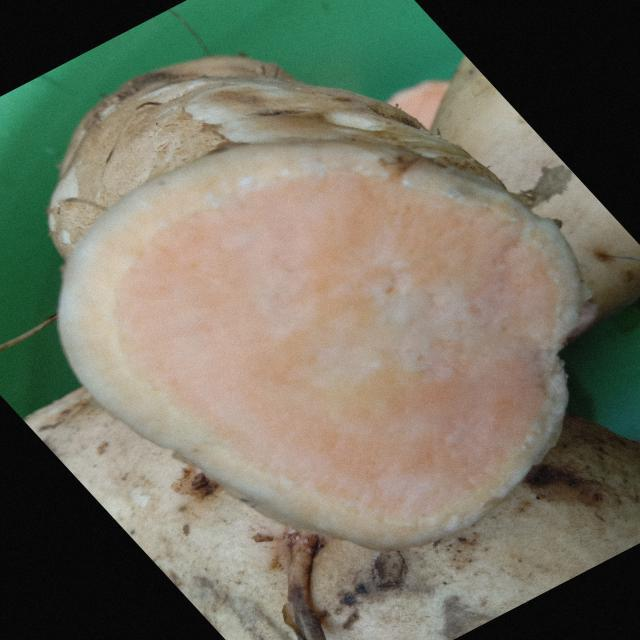Healthy Sweet Potato: (60, 144, 583, 549)
